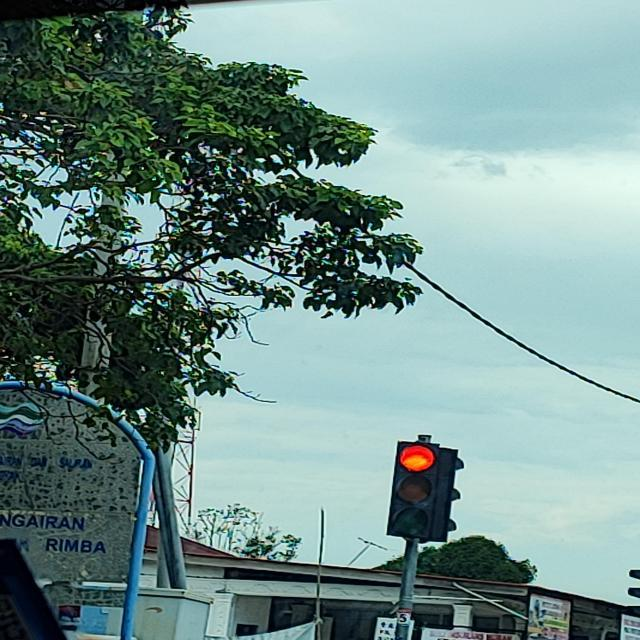Red: (384, 440, 440, 536)
